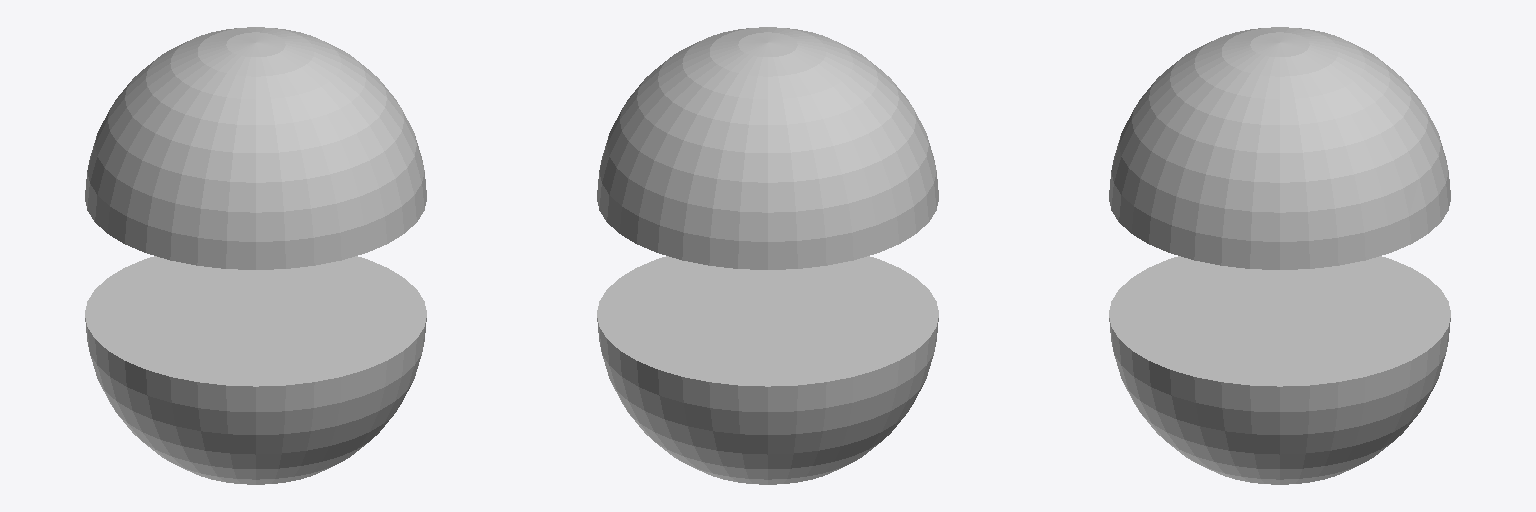
Rendered from longitudeHemispheres-fixed.obj.
The picture shows the model from 3 angles: view 1: azimuth 30°, elevation 25°; view 2: azimuth 150°, elevation 25°; view 3: azimuth 270°, elevation 25°; orthographic projection.
Visible parts, largest first — view 1: polySurface1; view 2: polySurface1; view 3: polySurface1.
Boxes of the visible parts, x1,y1,x2,y2 form: polySurface1: [85, 27, 426, 484]; polySurface1: [597, 27, 938, 484]; polySurface1: [1109, 27, 1450, 484].
Size of the model in its own units: 16 by 22 by 16.